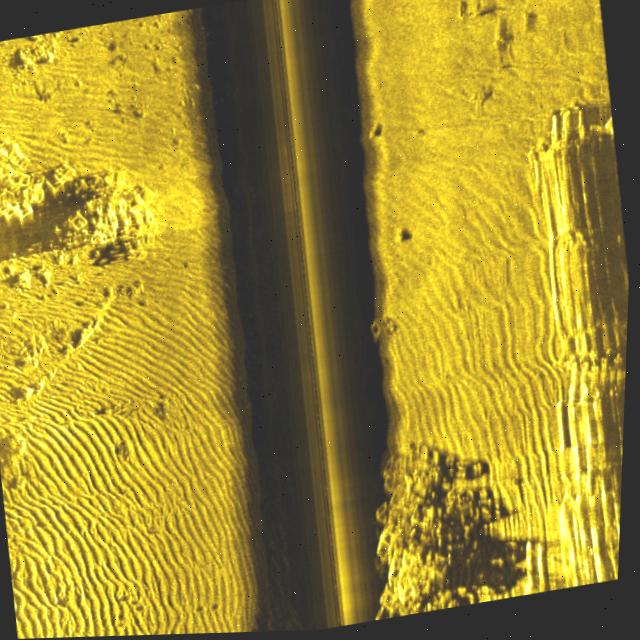artificial reef: (0, 68, 160, 275), (349, 448, 510, 625), (348, 314, 406, 362)
